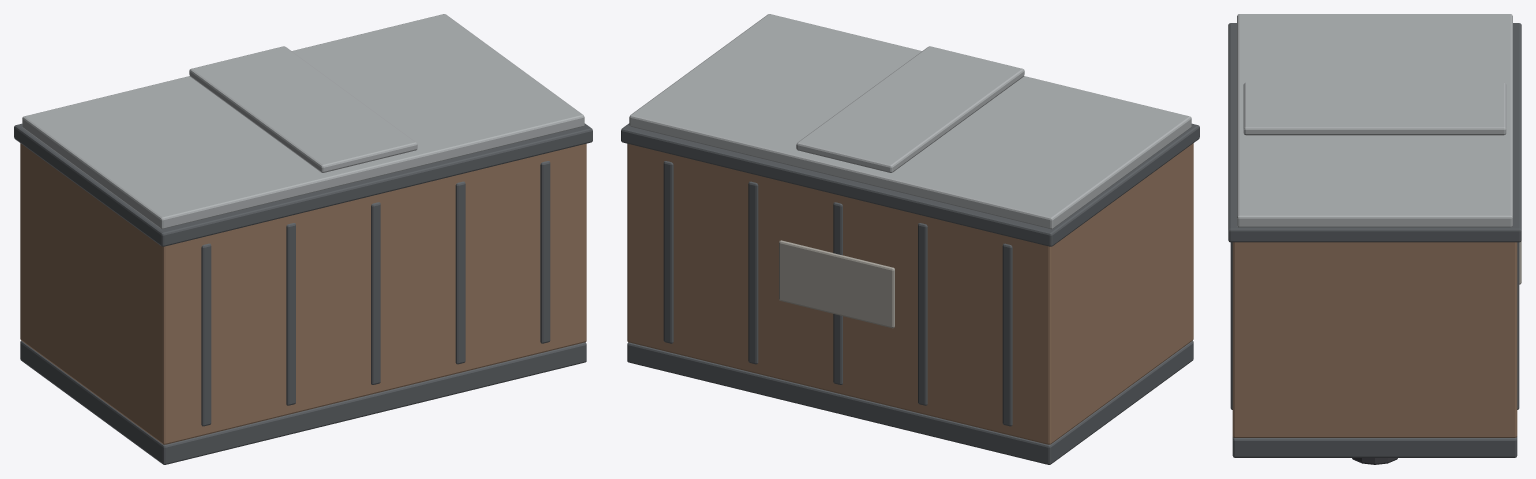
The model's file is dumpster_2.fbx.
The picture shows the model from 3 angles, left to right: view 1: azimuth 30°, elevation 25°; view 2: azimuth 150°, elevation 25°; view 3: azimuth 270°, elevation 25°; orthographic projection.
Visible parts, largest first — view 1: dumpster_2; view 2: dumpster_2; view 3: dumpster_2.
Part boxes in pixels (x1,y1,x2,y2): dumpster_2: (14,14,592,464); dumpster_2: (621,14,1199,464); dumpster_2: (1228,14,1521,464).
Size of the model in its own units: 2.24 by 1.39 by 1.34.
